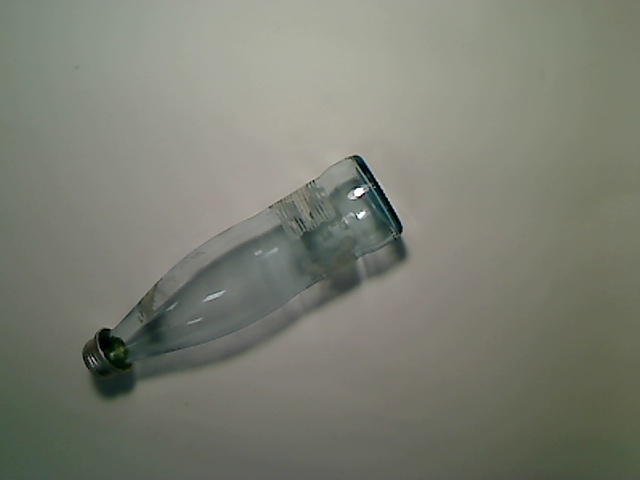bottle: (83, 154, 404, 380)
